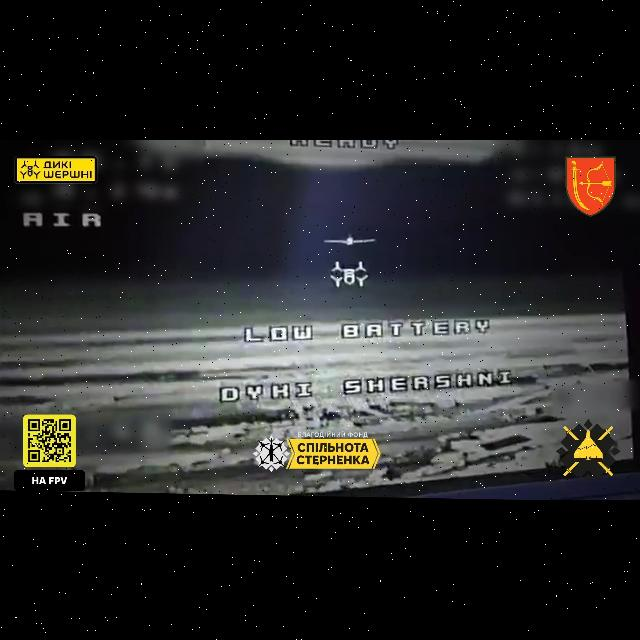Gerbera: (324, 234, 376, 246)
